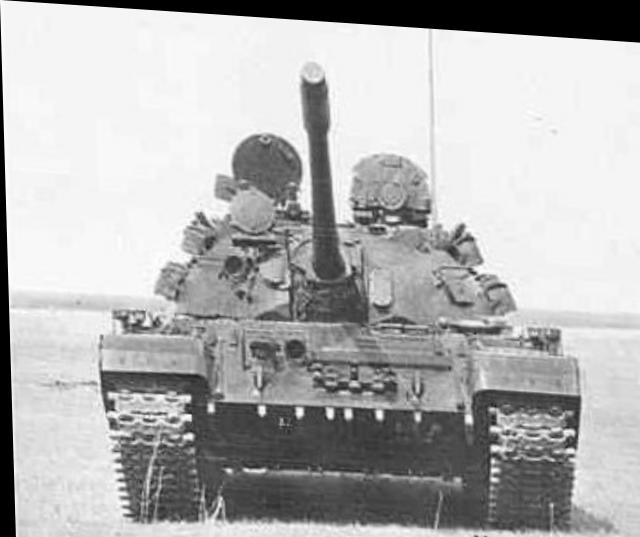tank: (95, 119, 571, 514)
